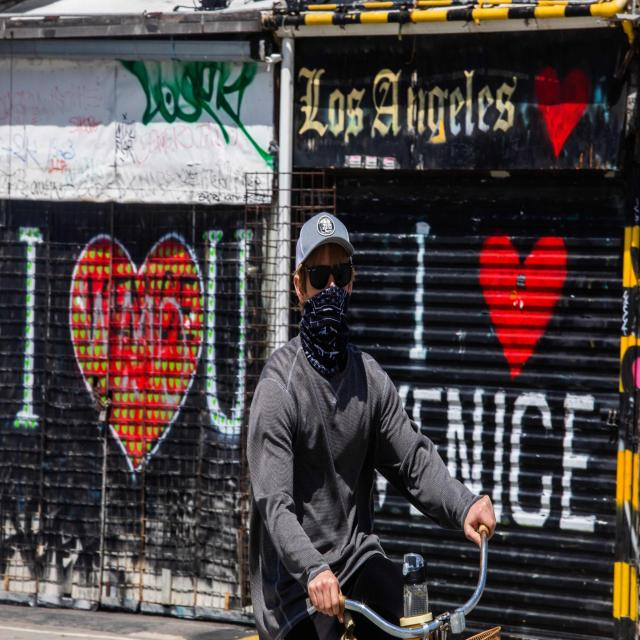hat: (296, 213, 357, 270)
